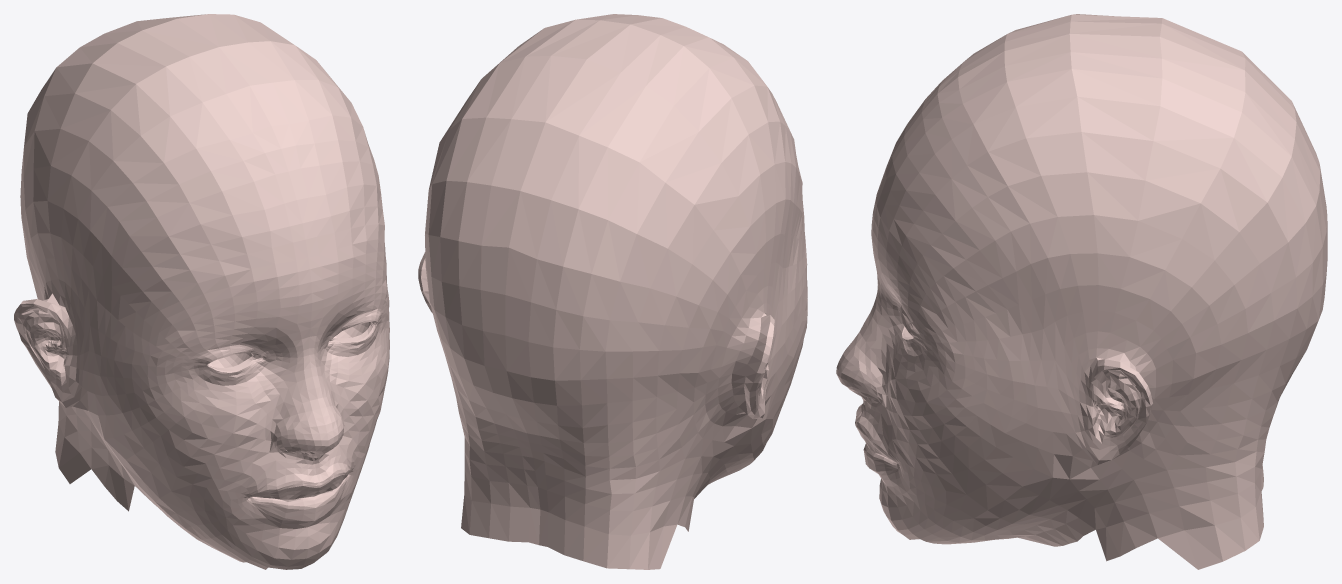
Rendered from aline-face-sculpture-v1.glb.
3 renders of one model, left to right at view 1: azimuth 30°, elevation 25°; view 2: azimuth 150°, elevation 25°; view 3: azimuth 270°, elevation 25°, orthographic. The views are drawn at different scales.
Parts seen in each view (by area): view 1: geometry_0; view 2: geometry_0; view 3: geometry_0.
Part boxes in pixels (x1=…): geometry_0: x1=14, y1=14, x2=389, y2=569; geometry_0: x1=418, y1=14, x2=807, y2=569; geometry_0: x1=836, y1=14, x2=1327, y2=569.
Size of the model in its own units: 2.99 by 3.9 by 3.53.
